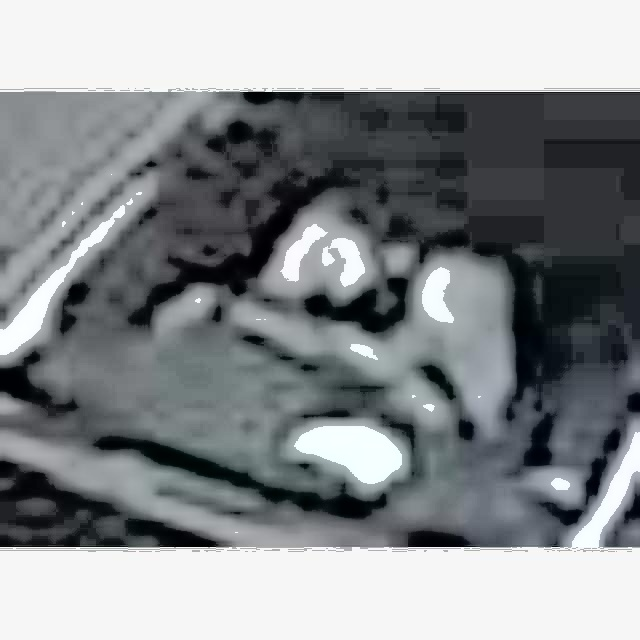pakai: (233, 189, 533, 431)
